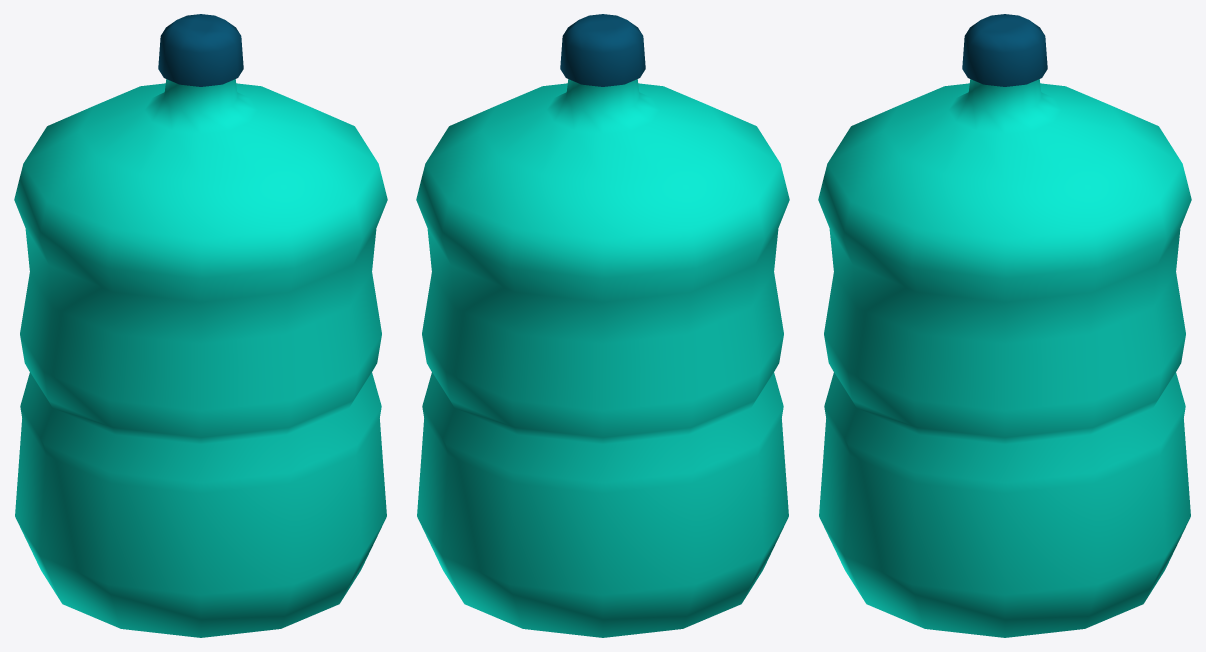
File: Garrafon.fbx
3 renders of one model, left to right at view 1: azimuth 30°, elevation 25°; view 2: azimuth 150°, elevation 25°; view 3: azimuth 270°, elevation 25°, orthographic.
Visible parts, largest first — view 1: Garrafon; view 2: Garrafon; view 3: Garrafon.
Boxes of the visible parts, x1=… form: Garrafon: x1=14, y1=14, x2=387, y2=637; Garrafon: x1=416, y1=14, x2=789, y2=637; Garrafon: x1=818, y1=14, x2=1191, y2=637.
Bounding box in the file's own units: 0.6 × 1 × 0.6.
